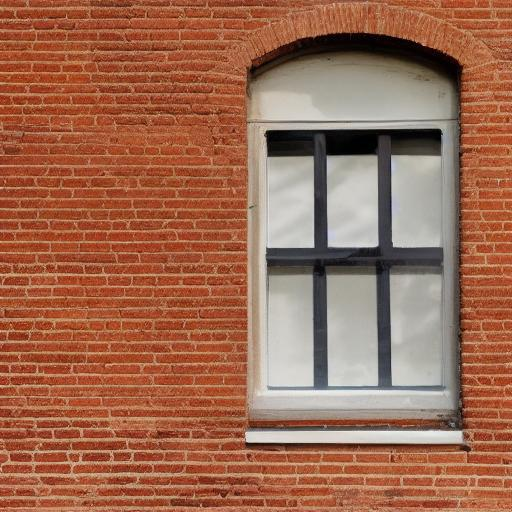Window: (214, 3, 501, 456)
